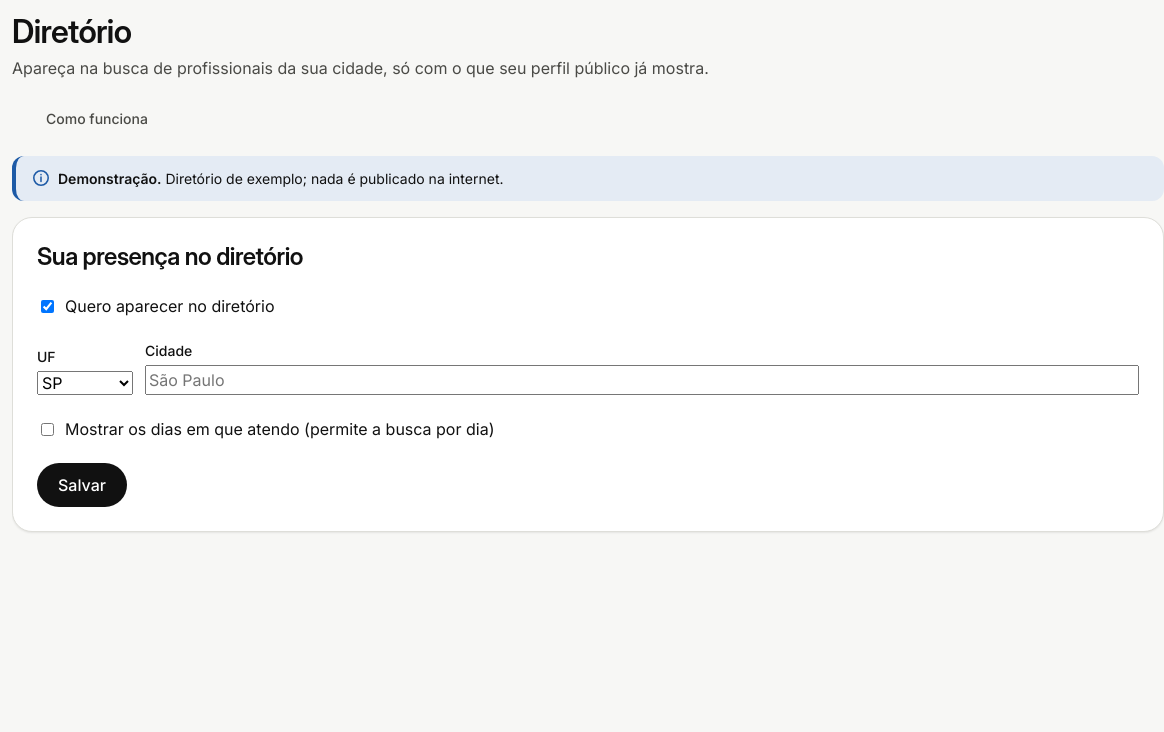
Diretório (dono) › Salvar sempre ativo: sem cidade mostra o erro embaixo do campo, foca e não salva
The image size is (1164, 732).
Click the button "Salvar". click: (82, 485)
box: [37,463,127,507]
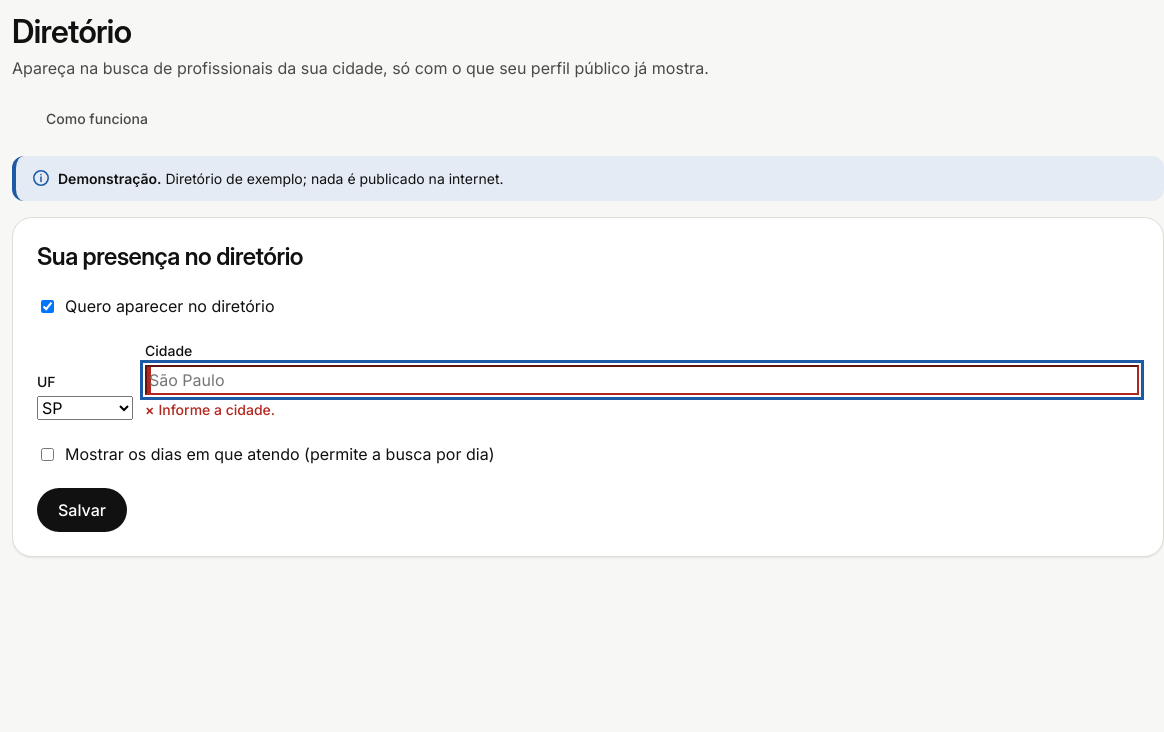
Check: the text "Informe a cidade." is shown, box [158,401,275,418]
